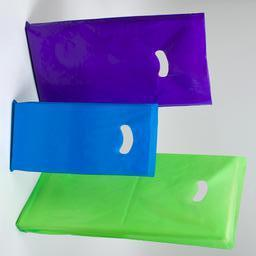plastic: (10, 13, 246, 249)
